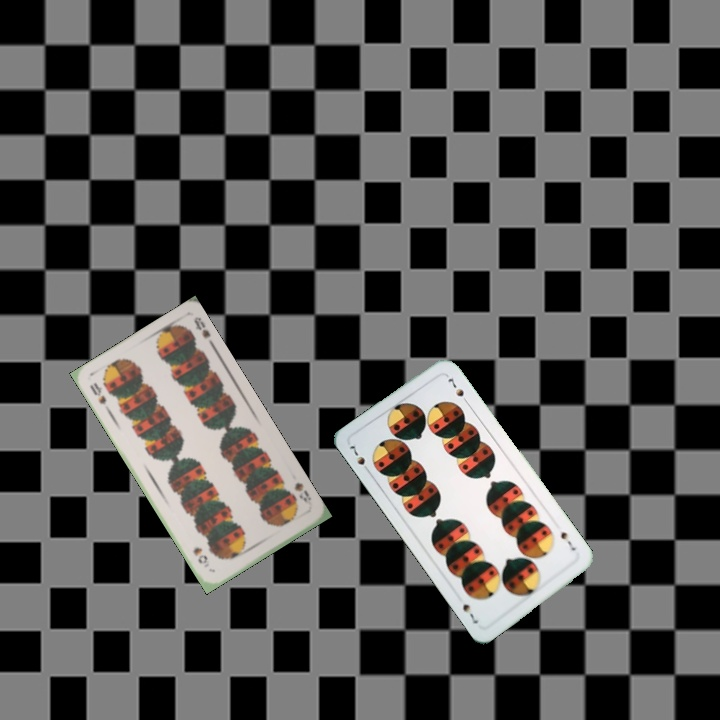S7: (346, 441, 373, 476), (557, 528, 579, 553)
S8: (86, 379, 112, 414), (290, 478, 314, 509)
